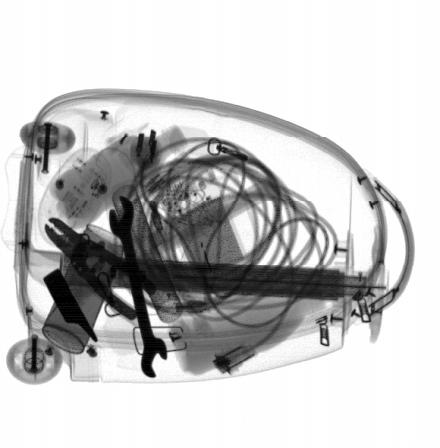Hammer: (42, 172, 284, 344)
Pliers: (45, 216, 158, 321)
Powerbank: (154, 159, 252, 298)
Wrench: (108, 194, 168, 378)
